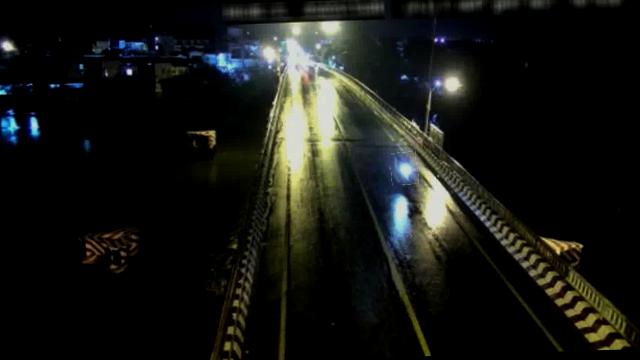Bike: (390, 152, 418, 186)
